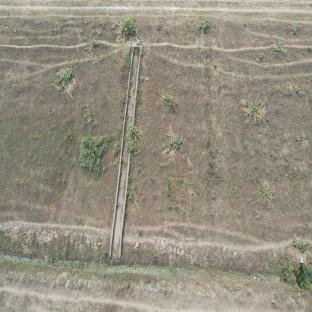rock_toe: (123, 229, 286, 274), (2, 220, 110, 252)
slope_drain: (109, 44, 142, 260)
toe_drain: (0, 252, 292, 287)
